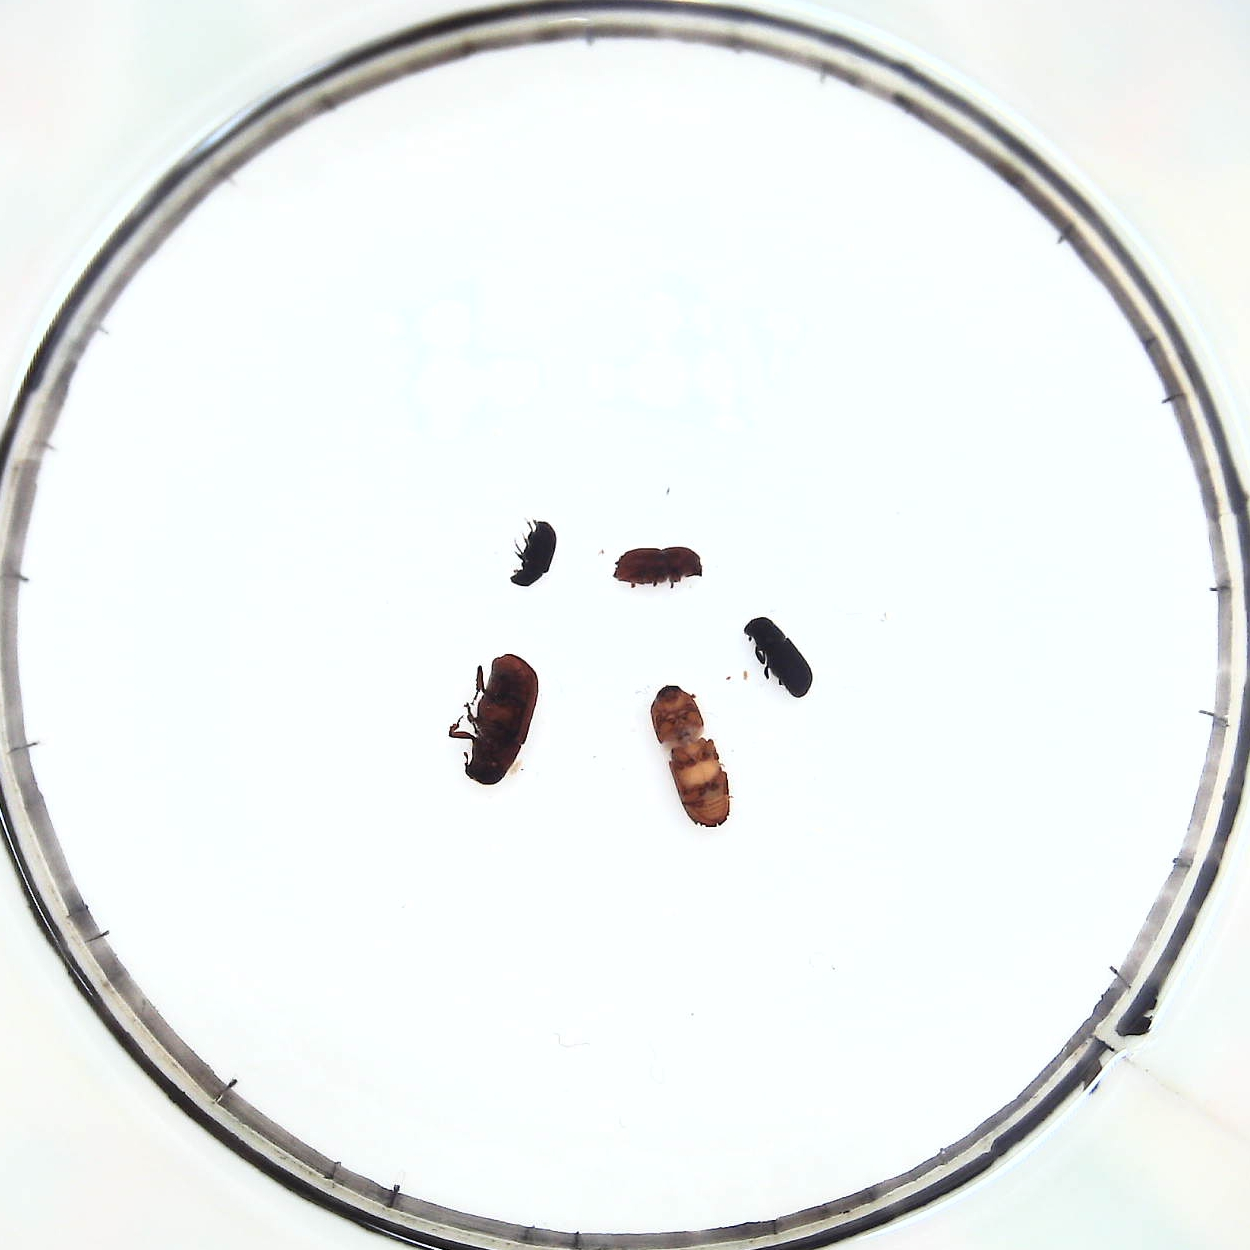Boerner: (651, 681, 734, 831)
Leconte: (450, 652, 537, 784)
Linnaeus: (611, 543, 705, 587)
armandi: (739, 611, 813, 699)
coleoptera: (511, 519, 560, 590)
